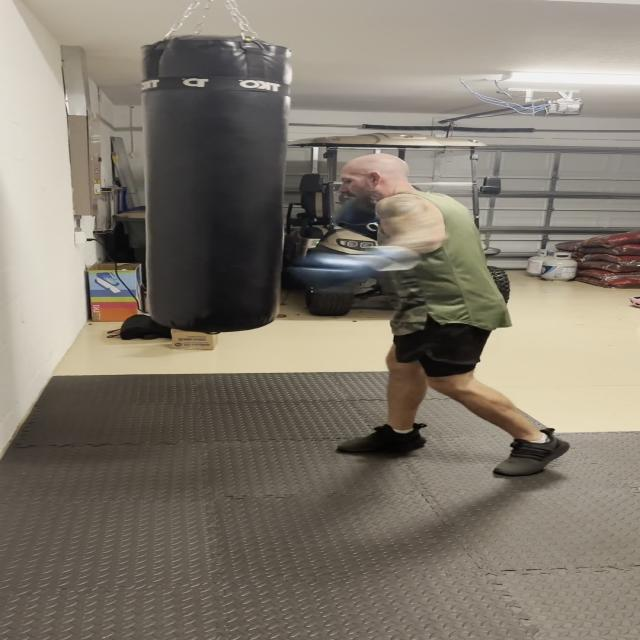bag: (125, 26, 294, 332)
hook: (232, 127, 491, 300)
